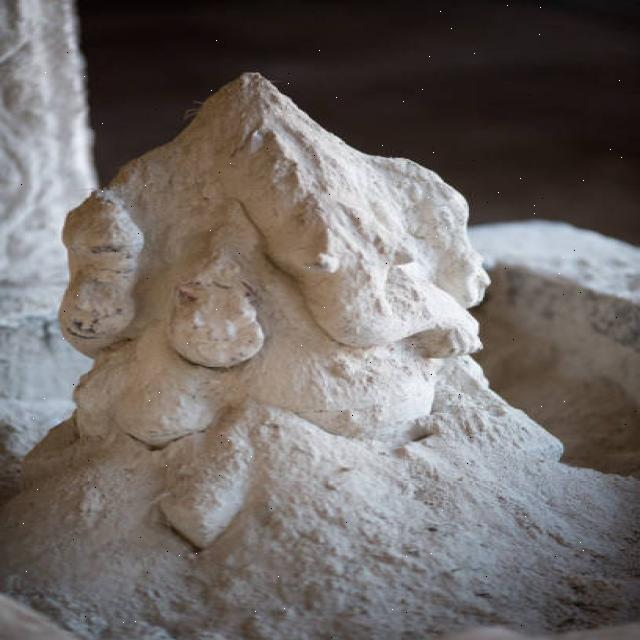Sedimentary: (22, 67, 587, 640)
